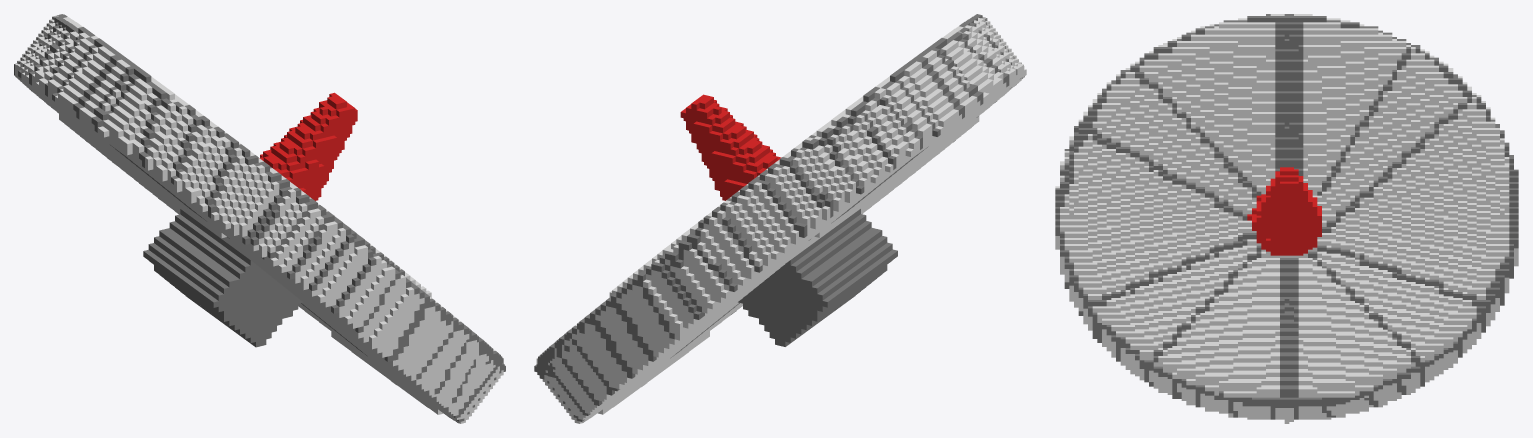
File: antenaParteAlta.fbx
3 renders of one model, left to right at view 1: azimuth 30°, elevation 25°; view 2: azimuth 150°, elevation 25°; view 3: azimuth 270°, elevation 25°, orthographic. The views are drawn at different scales.
Parts seen in each view (by area): view 1: antena parte alta.001; view 2: antena parte alta.001; view 3: antena parte alta.001.
Boxes of the visible parts, x1,y1,x2,y2 form: antena parte alta.001: (14,14,505,423); antena parte alta.001: (534,14,1026,423); antena parte alta.001: (1055,14,1518,423).
Size of the model in its own units: 690 by 710 by 990.
